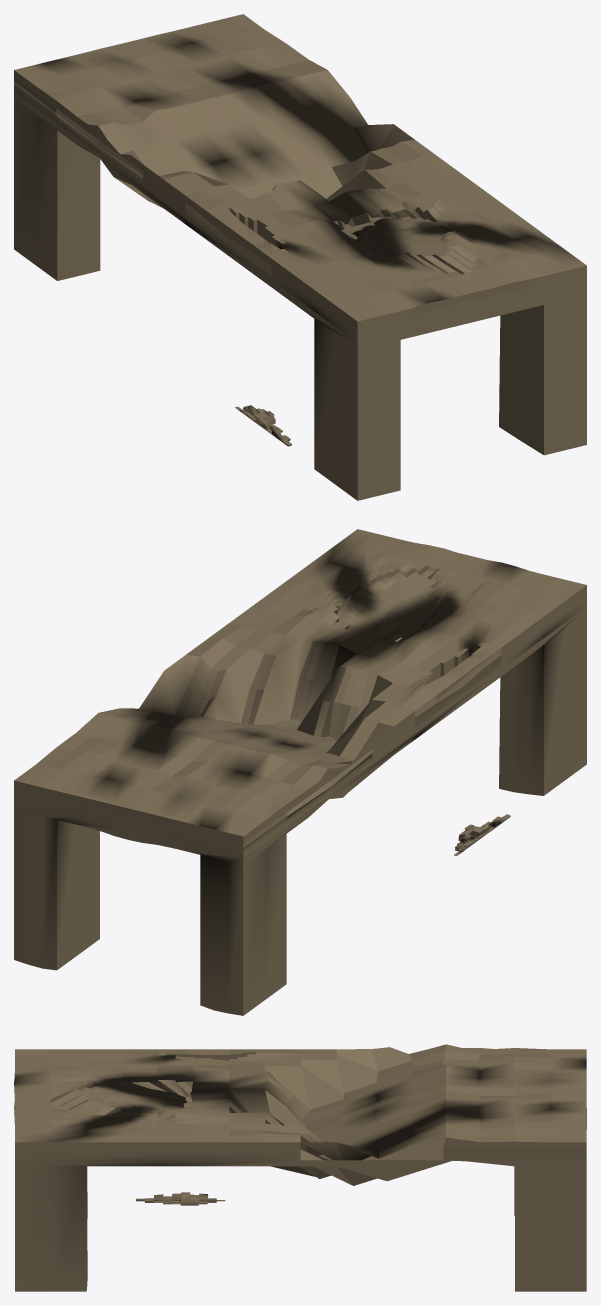
Rendered from table.fbx.
3 views of the same model, one above another, from view 1: azimuth 30°, elevation 25°; view 2: azimuth 150°, elevation 25°; view 3: azimuth 270°, elevation 25° (orthographic). The views are drawn at different scales.
Parts seen in each view (by area): view 1: Cube; view 2: Cube; view 3: Cube.
Part boxes in pixels (x1=…): Cube: x1=14, y1=14, x2=586, y2=500; Cube: x1=14, y1=529, x2=586, y2=1015; Cube: x1=14, y1=1044, x2=586, y2=1291.
Bounding box in the file's own units: 623 × 489 × 1583.
